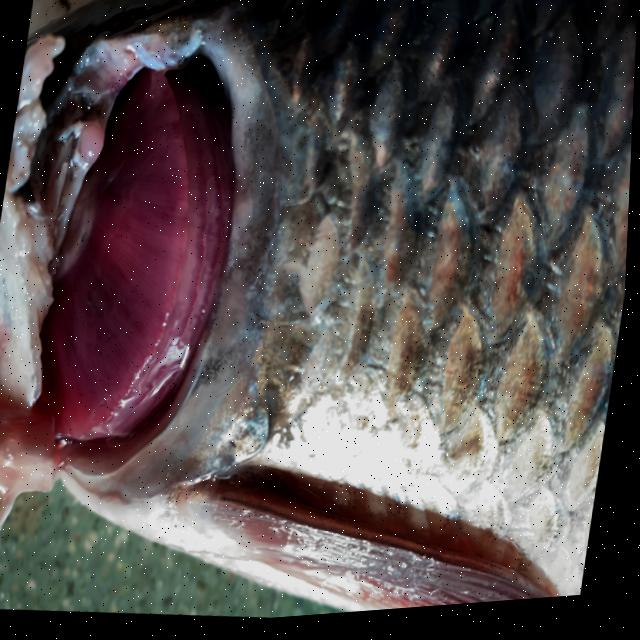Fresh: (15, 10, 274, 555)
